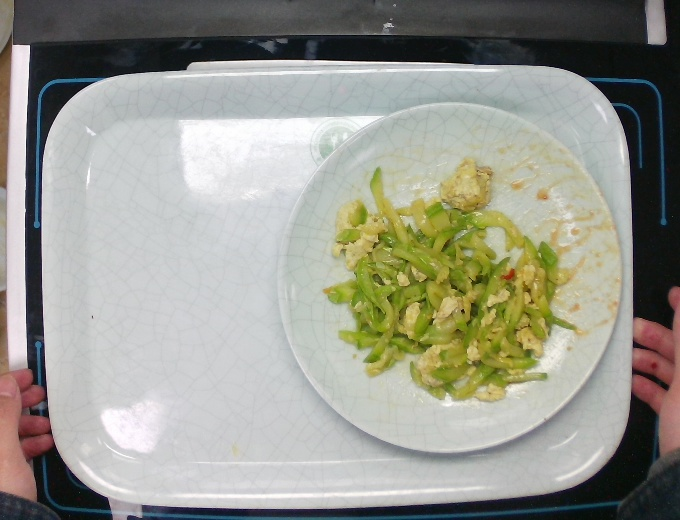JYsf-Da_Yuan_Pan: (270, 100, 625, 457)
